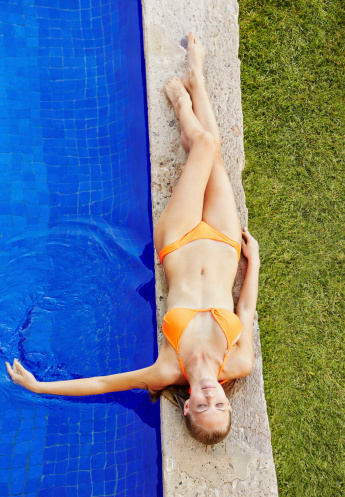deitado: (0, 0, 244, 497)
